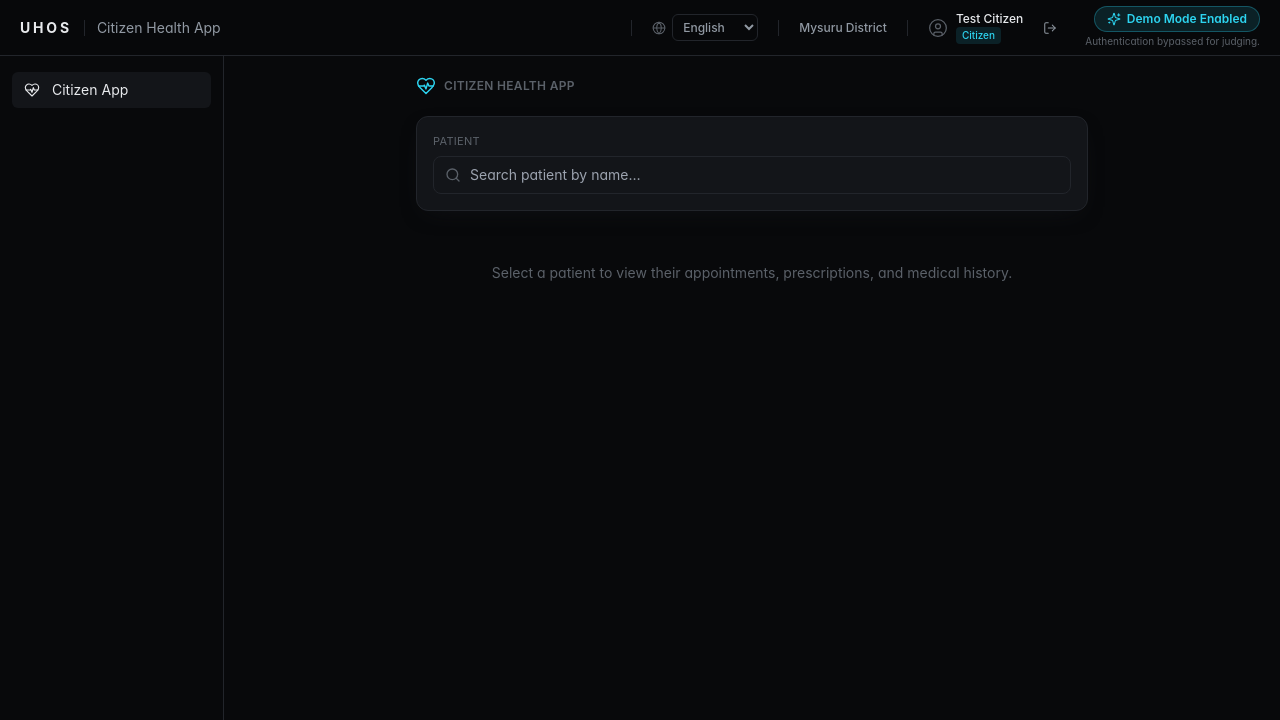
Test: Citizen App › shows the timeline tabs once a patient is selected
This screenshot has width=1280, height=720.
Type "Asha" into the field with placeholder "Search patient by name…" at {"x": 752, "y": 174}, box [433,156,1071,194]
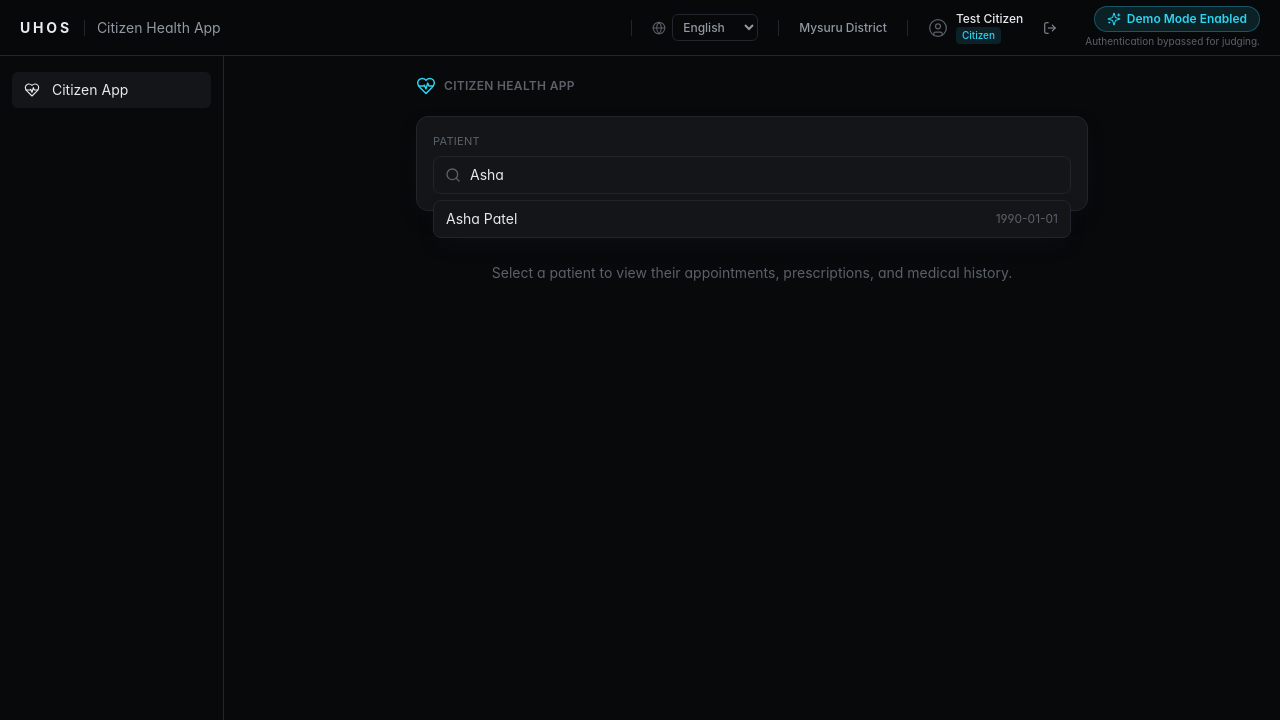
Now the text "Asha Patel" is shown
Click the text "Asha Patel" at {"x": 482, "y": 218}, box [446,208,517,228]
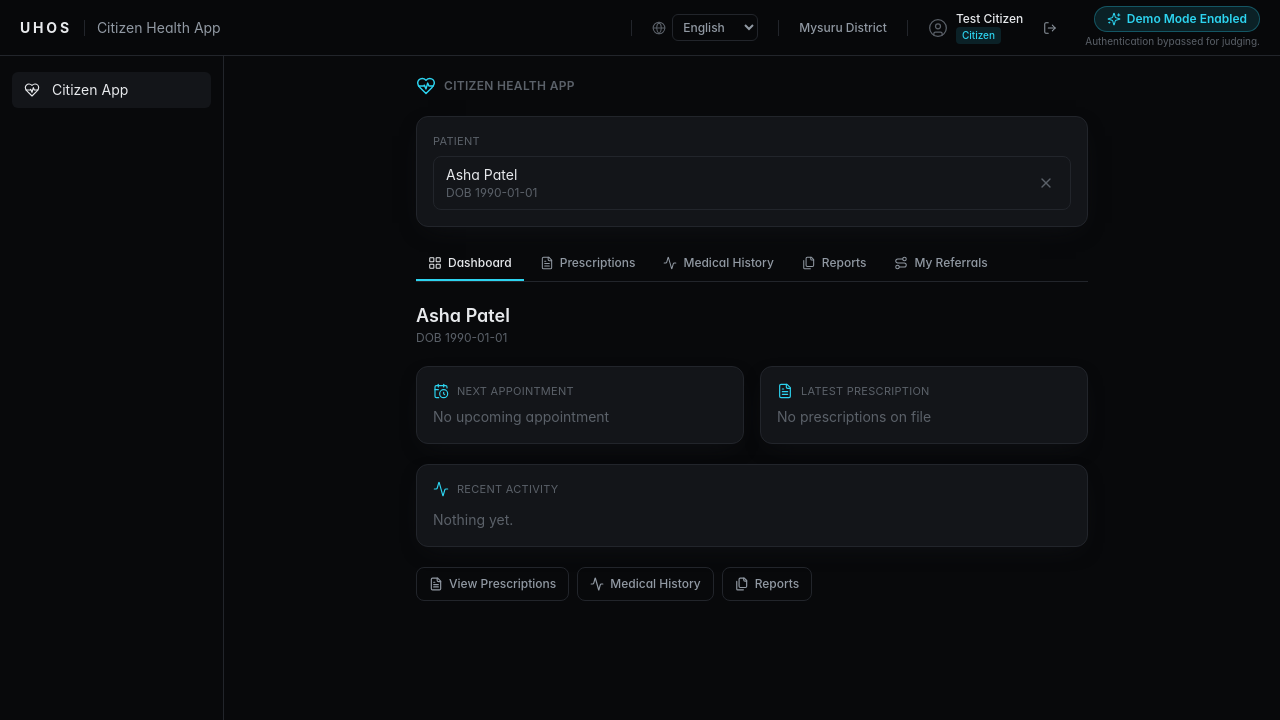
Now the 1st button "Medical History" is shown, box [652,246,786,280]
Now the button "Prescriptions" is shown, box [528,246,648,280]
Now the 1st button "Reports" is shown, box [790,246,878,280]
